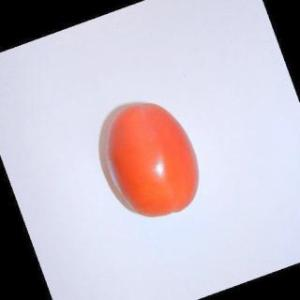tomato: (98, 98, 206, 224)
